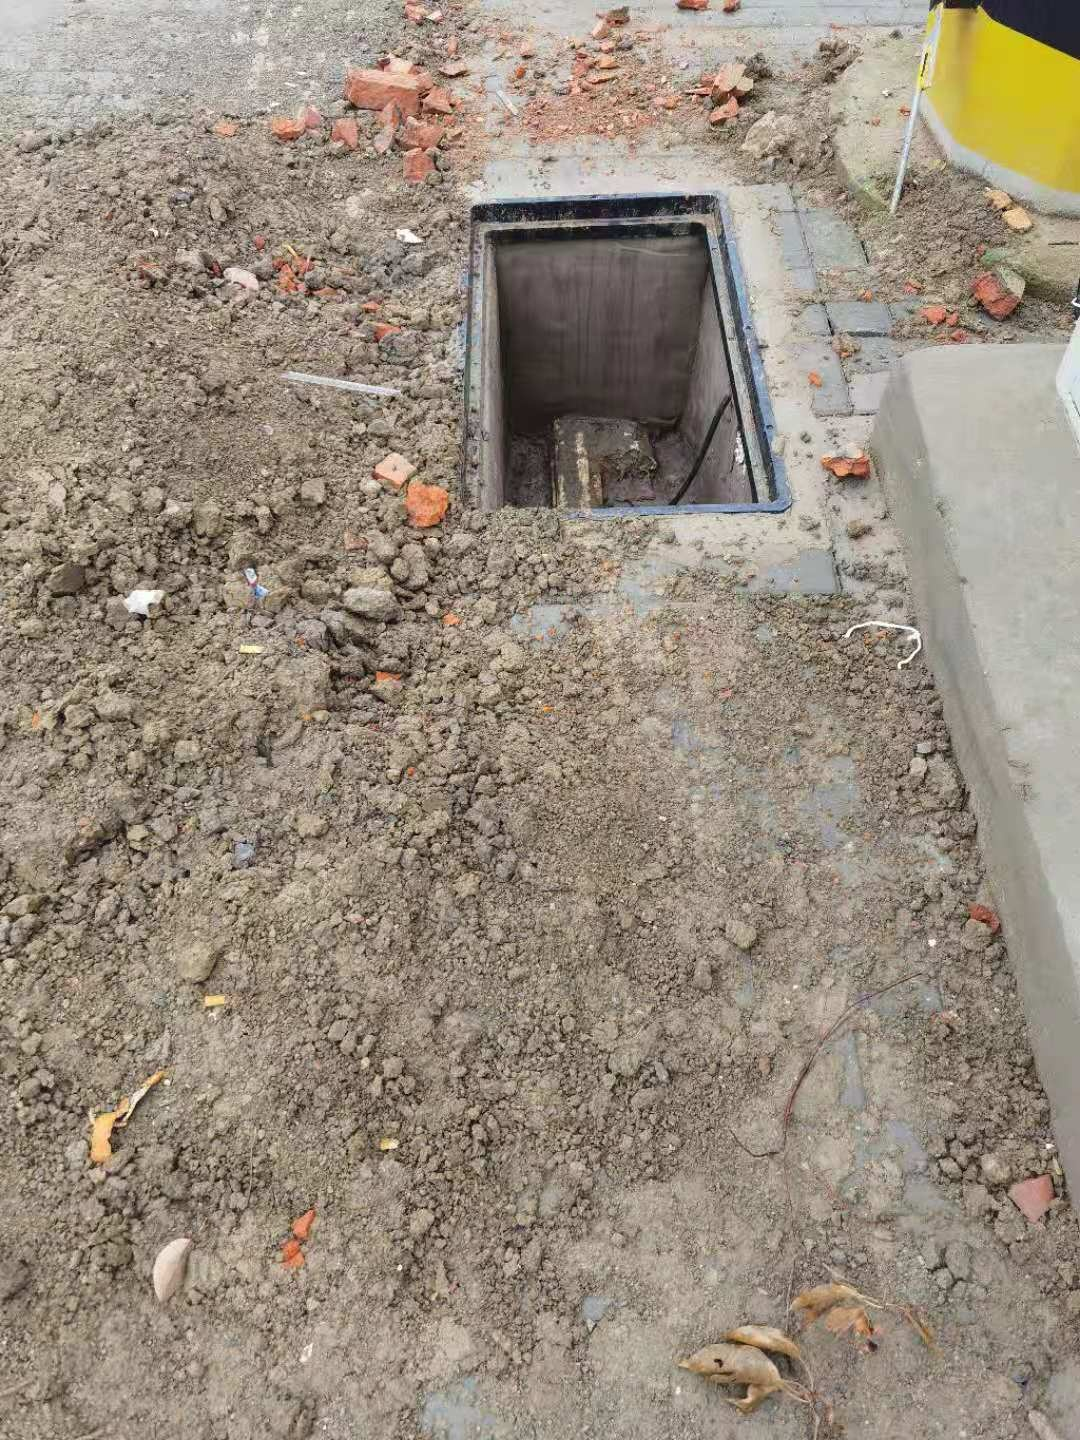well: (459, 184, 787, 514)
